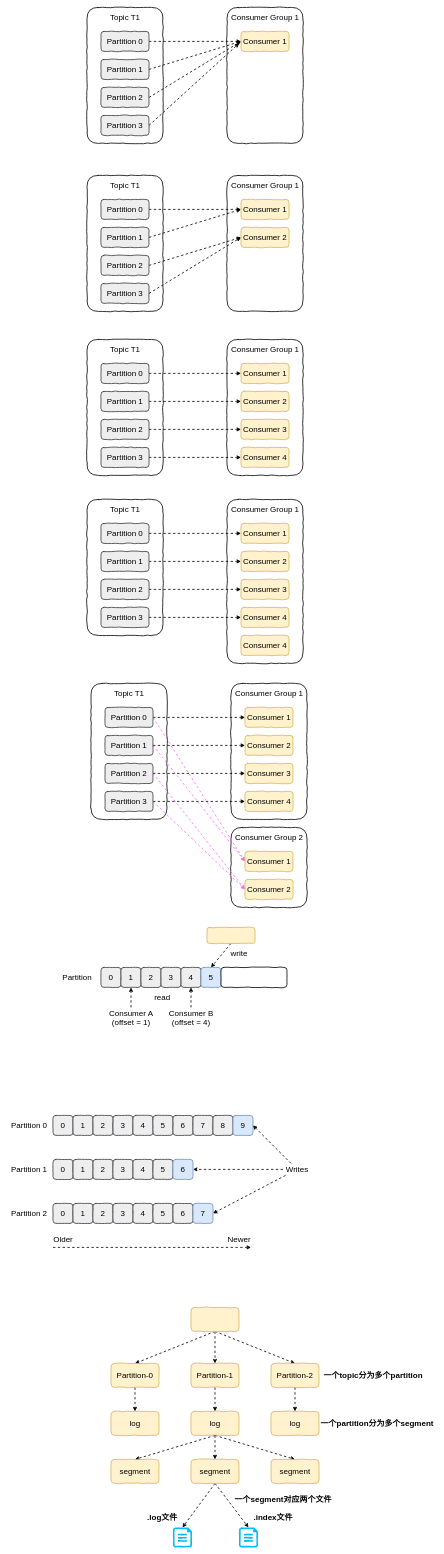
The diagram is 444 pixels wide and 1554 high, and some of its shapes have lost their labels. Here are the shapes that lost their labels. From the top down, the centre of each, then its label:
At pixel 230 935: "Producer".
At pixel 214 1319: "Topic".
